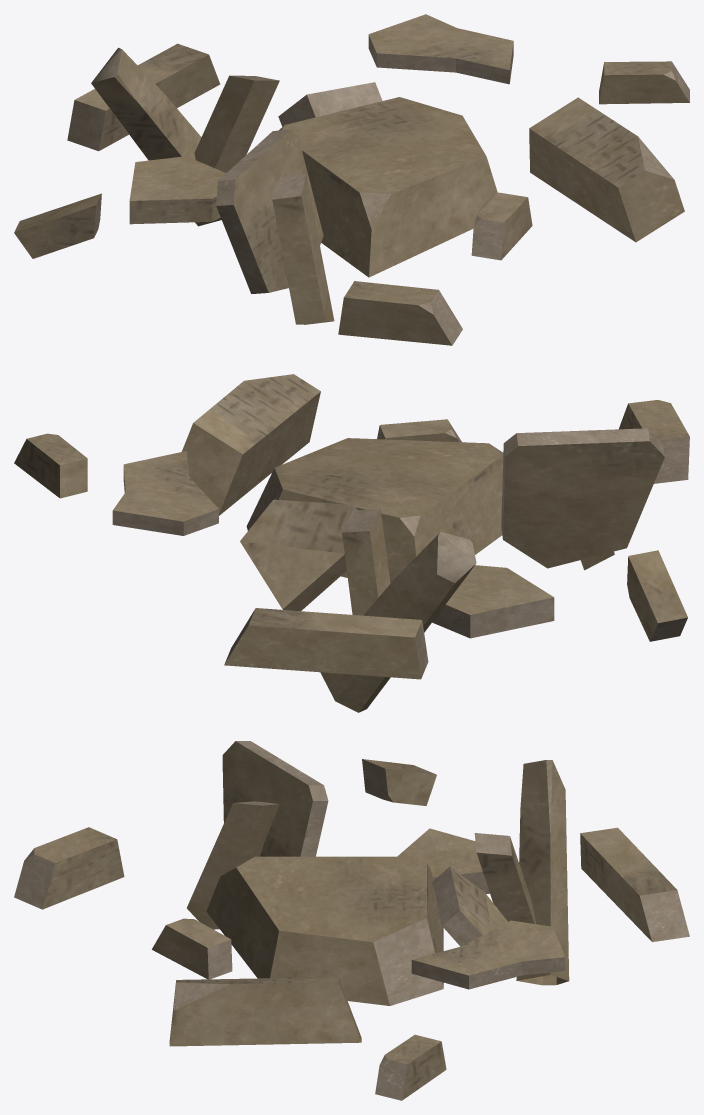
Rendered from SM_Ruin_Parts.FBX.
3 renders of one model, top to bottom at view 1: azimuth 30°, elevation 25°; view 2: azimuth 150°, elevation 25°; view 3: azimuth 270°, elevation 25°, orthographic. The views are drawn at different scales.
Parts seen in each view (by area): view 1: SM_Ruin_Parts; view 2: SM_Ruin_Parts; view 3: SM_Ruin_Parts.
Boxes of the visible parts, bbox=[...] form: SM_Ruin_Parts: bbox=[14, 14, 689, 345]; SM_Ruin_Parts: bbox=[14, 374, 689, 712]; SM_Ruin_Parts: bbox=[14, 741, 689, 1100].
Size of the model in its own units: 484 by 432 by 134.
